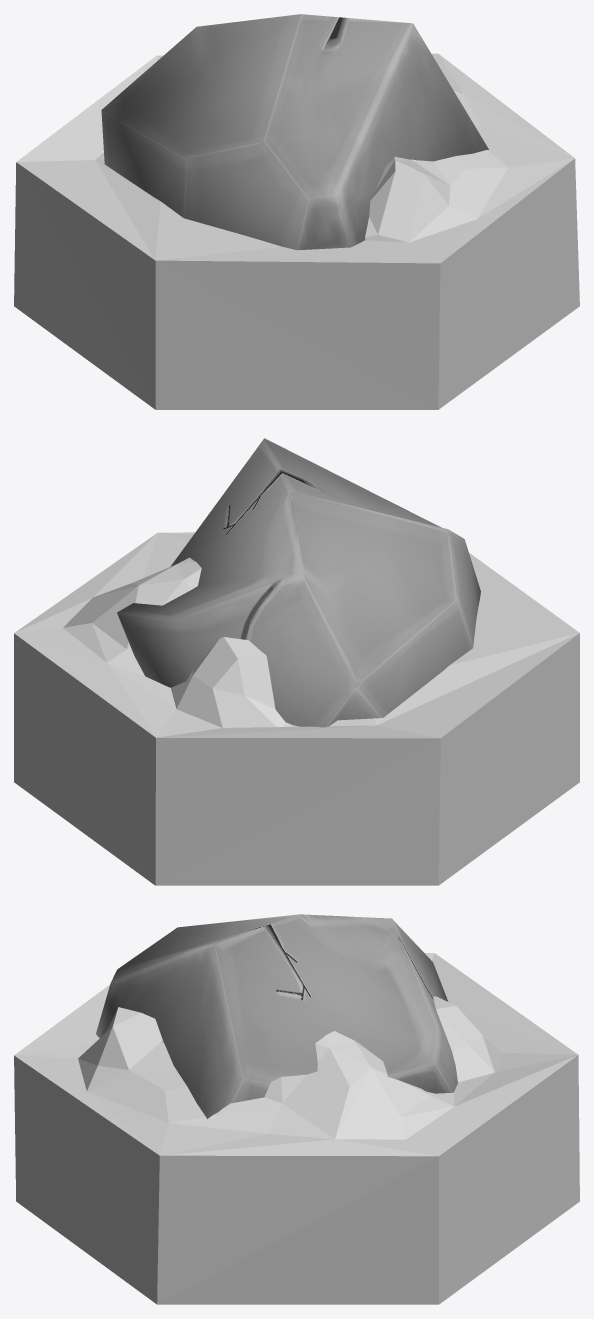
File: non breakable stone.fbx
The picture shows the model from 3 angles, top to bottom: view 1: azimuth 30°, elevation 25°; view 2: azimuth 150°, elevation 25°; view 3: azimuth 270°, elevation 25°; orthographic projection.
Visible parts, largest first — view 1: Stone02; view 2: Stone02; view 3: Stone02.
Boxes of the visible parts, x1,y1,x2,y2 form: Stone02: (14, 14, 579, 409); Stone02: (14, 438, 579, 885); Stone02: (14, 914, 579, 1304).
Bounding box in the file's own units: 173 × 115 × 201.
2 materials, 1 textured.
